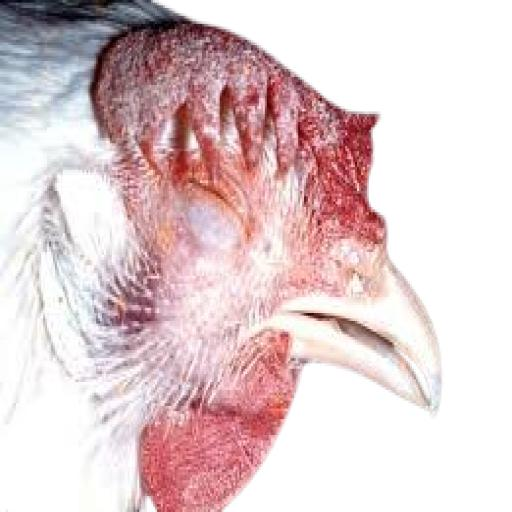disease: (100, 14, 387, 178), (152, 136, 294, 300)
